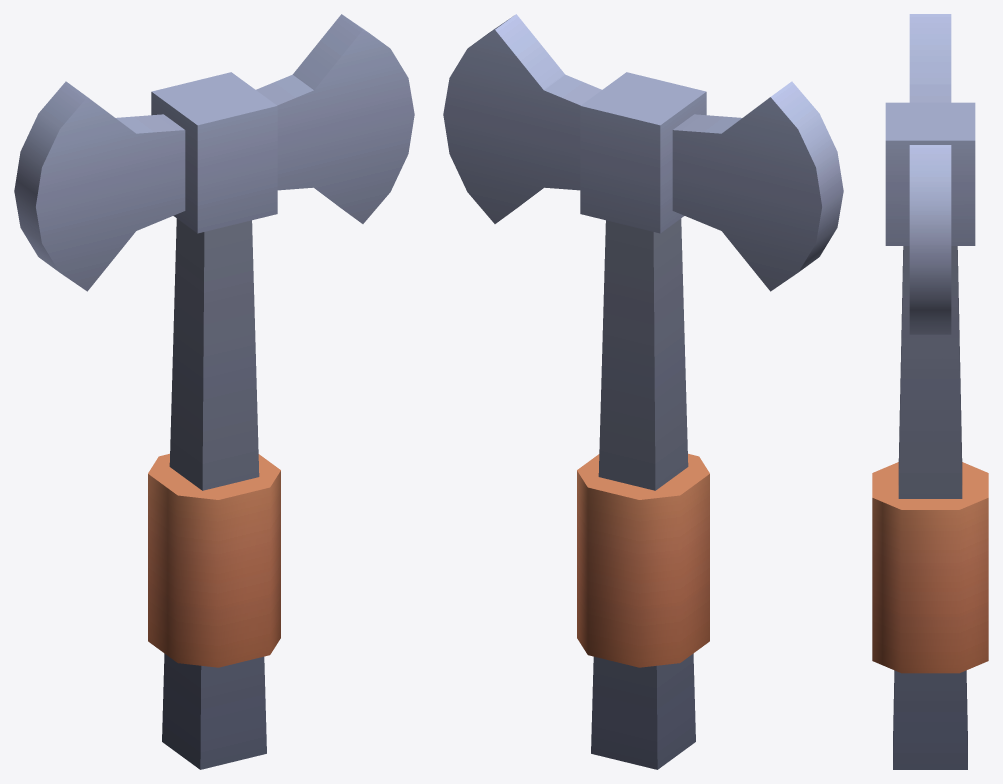
The model's file is tool-axe-upgraded.glb.
The picture shows the model from 3 angles, left to right: view 1: azimuth 30°, elevation 25°; view 2: azimuth 150°, elevation 25°; view 3: azimuth 270°, elevation 25°; orthographic projection. The views are drawn at different scales.
Parts seen in each view (by area): view 1: tool-axe-upgraded; view 2: tool-axe-upgraded; view 3: tool-axe-upgraded.
Part boxes in pixels (x1,y1,x2,y2): tool-axe-upgraded: (14,14,414,769); tool-axe-upgraded: (443,14,843,769); tool-axe-upgraded: (872,14,988,769).
Bounding box in the file's own units: 0.1466 × 0.256 × 0.04.
Materials: 1 (1 with a texture image).
